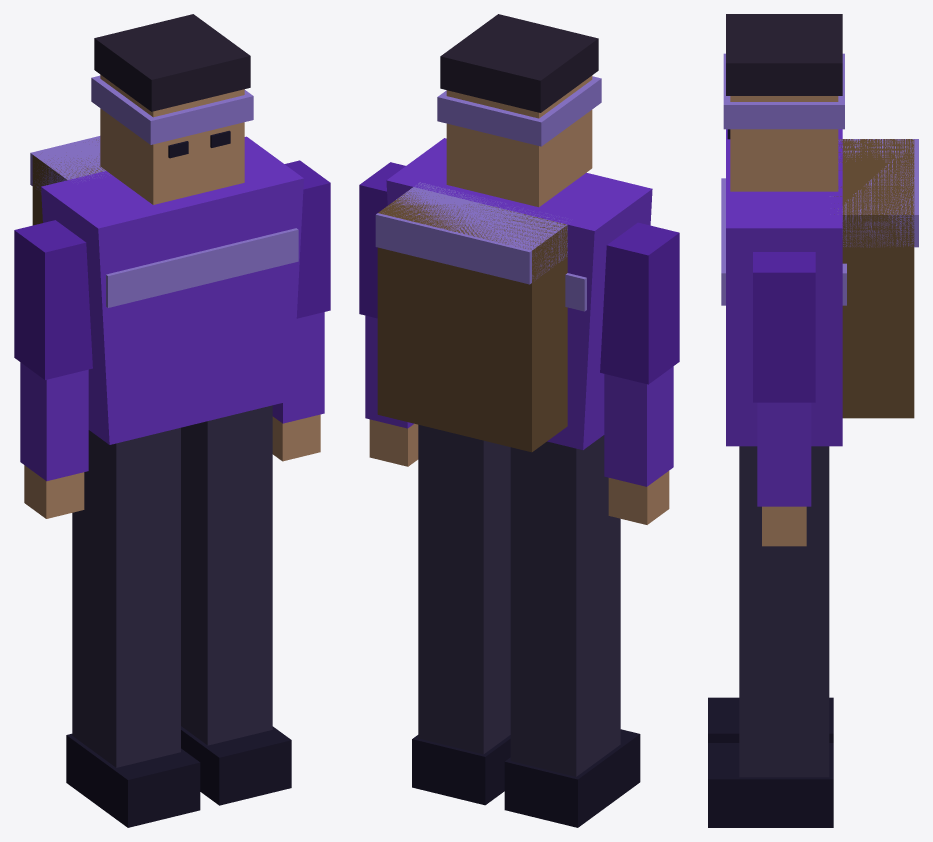
File: survivor_zoya.glb
3 renders of one model, left to right at view 1: azimuth 30°, elevation 25°; view 2: azimuth 150°, elevation 25°; view 3: azimuth 270°, elevation 25°, orthographic. The views are drawn at different scales.
Visible parts, largest first — view 1: torso, leg_R, leg_L, head, arm_R, arm_L; view 2: torso, leg_R, leg_L, head, arm_R, arm_L; view 3: torso, leg_L, head, arm_L, leg_R.
Part boxes in pixels (bbox=[...]): torso: bbox=[30, 136, 303, 444]; leg_R: bbox=[66, 427, 200, 827]; leg_L: bbox=[181, 405, 291, 805]; head: bbox=[91, 14, 253, 204]; arm_R: bbox=[14, 220, 92, 518]; arm_L: bbox=[272, 160, 330, 461]; torso: bbox=[375, 138, 652, 452]; leg_R: bbox=[504, 435, 640, 827]; leg_L: bbox=[412, 424, 510, 805]; head: bbox=[437, 14, 601, 207]; arm_R: bbox=[600, 222, 679, 524]; arm_L: bbox=[359, 162, 418, 466]; torso: bbox=[721, 129, 918, 446]; leg_L: bbox=[708, 446, 833, 827]; head: bbox=[723, 14, 844, 191]; arm_L: bbox=[753, 252, 815, 546]; leg_R: bbox=[708, 697, 833, 742].
Bounding box in the file's own units: 0.75 × 1.84 × 0.47.
